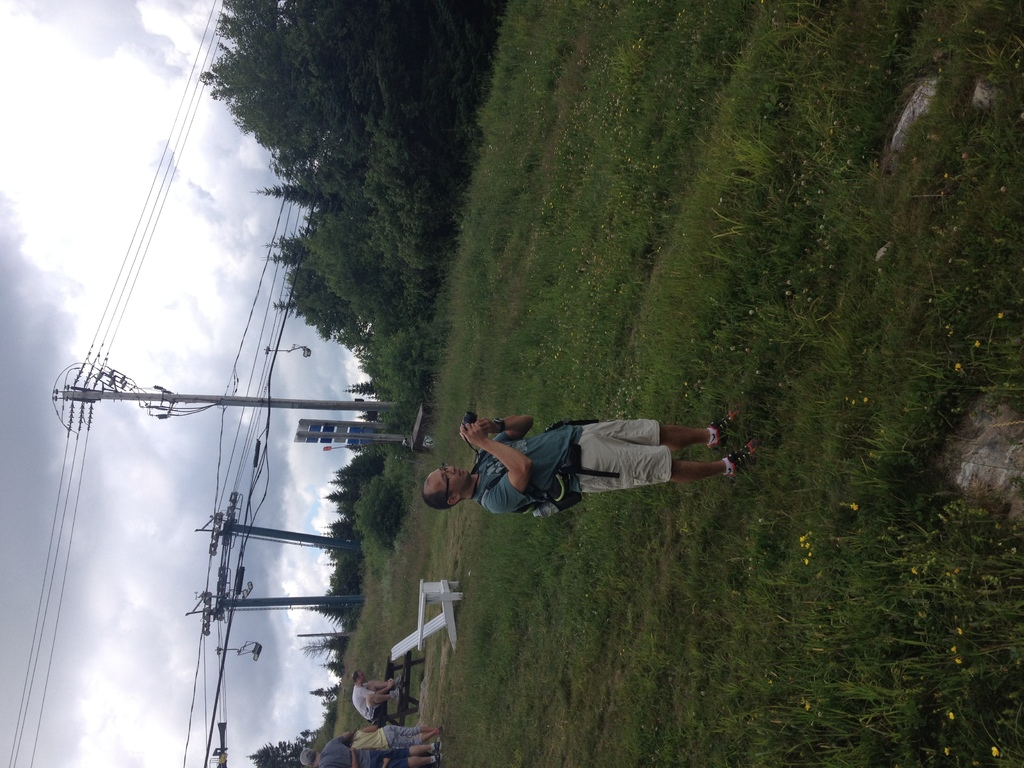Person: (421, 403, 764, 515), (297, 728, 445, 768), (345, 720, 444, 768), (349, 668, 402, 724)
